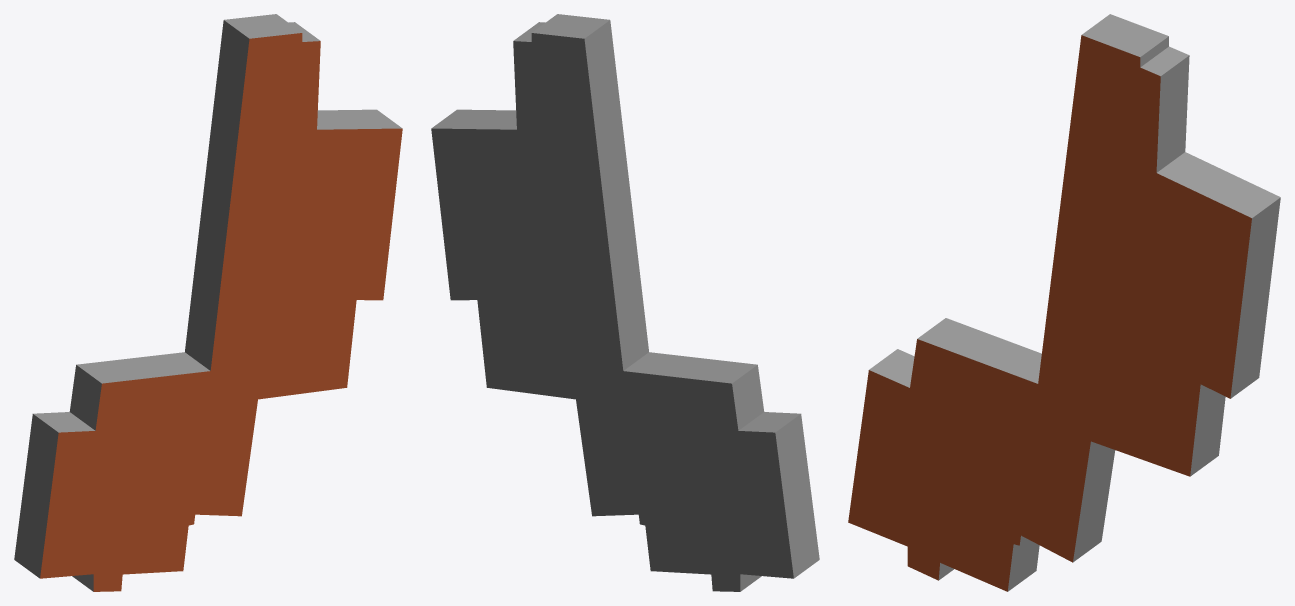
The model's file is construction_6595_assumed_A_Casa_h6m.obj.
3 views of the same model, side by side, from view 1: azimuth 30°, elevation 25°; view 2: azimuth 150°, elevation 25°; view 3: azimuth 330°, elevation 25° (orthographic). The views are drawn at different scales.
Parts seen in each view (by area): view 1: construction_6595_assumed_A_Casa; view 2: construction_6595_assumed_A_Casa; view 3: construction_6595_assumed_A_Casa.
Boxes of the visible parts, x1,y1,x2,y2 form: construction_6595_assumed_A_Casa: [14, 14, 402, 591]; construction_6595_assumed_A_Casa: [431, 14, 819, 591]; construction_6595_assumed_A_Casa: [848, 14, 1280, 591].
Bounding box in the file's own units: 48.63 × 66.78 × 6.
